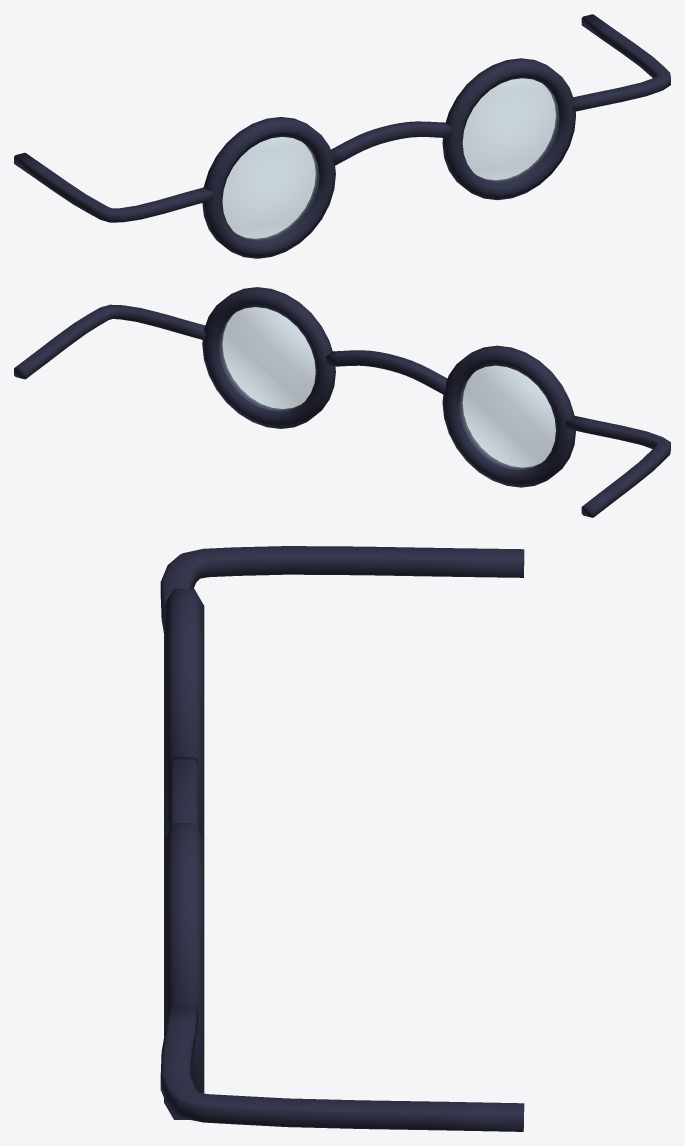
File: round_glasses-cat.glb
3 renders of one model, top to bottom at view 1: azimuth 30°, elevation 25°; view 2: azimuth 150°, elevation 25°; view 3: azimuth 270°, elevation 25°, orthographic. The views are drawn at different scales.
Visible parts, largest first — view 1: lens, lens.001, rim.001, rim, temple.001, temple, bridge; view 2: lens.001, lens, rim.001, rim, temple, temple.001, bridge; view 3: temple, temple.001, rim, rim.001, bridge.
Boxes of the visible parts, left/top/right/bottom form: lens: left=462, top=78, right=558, bottom=182; lens.001: left=222, top=137, right=318, bottom=240; rim.001: left=202, top=117, right=335, bottom=258; rim: left=442, top=58, right=575, bottom=200; temple.001: left=14, top=152, right=213, bottom=222; temple: left=572, top=14, right=670, bottom=111; bridge: left=331, top=121, right=452, bottom=165; lens.001: left=459, top=365, right=555, bottom=469; lens: left=219, top=307, right=315, bottom=411; rim.001: left=442, top=345, right=575, bottom=487; rim: left=202, top=287, right=335, bottom=428; temple: left=14, top=304, right=205, bottom=379; temple.001: left=565, top=416, right=670, bottom=517; bridge: left=325, top=350, right=447, bottom=394; temple: left=160, top=1003, right=524, bottom=1131; temple.001: left=160, top=546, right=524, bottom=632; rim: left=164, top=823, right=204, bottom=1119; rim.001: left=164, top=588, right=204, bottom=839; bridge: left=170, top=757, right=197, bottom=828.
Bounding box in the file's own units: 1.33 × 0.2946 × 0.3605.
